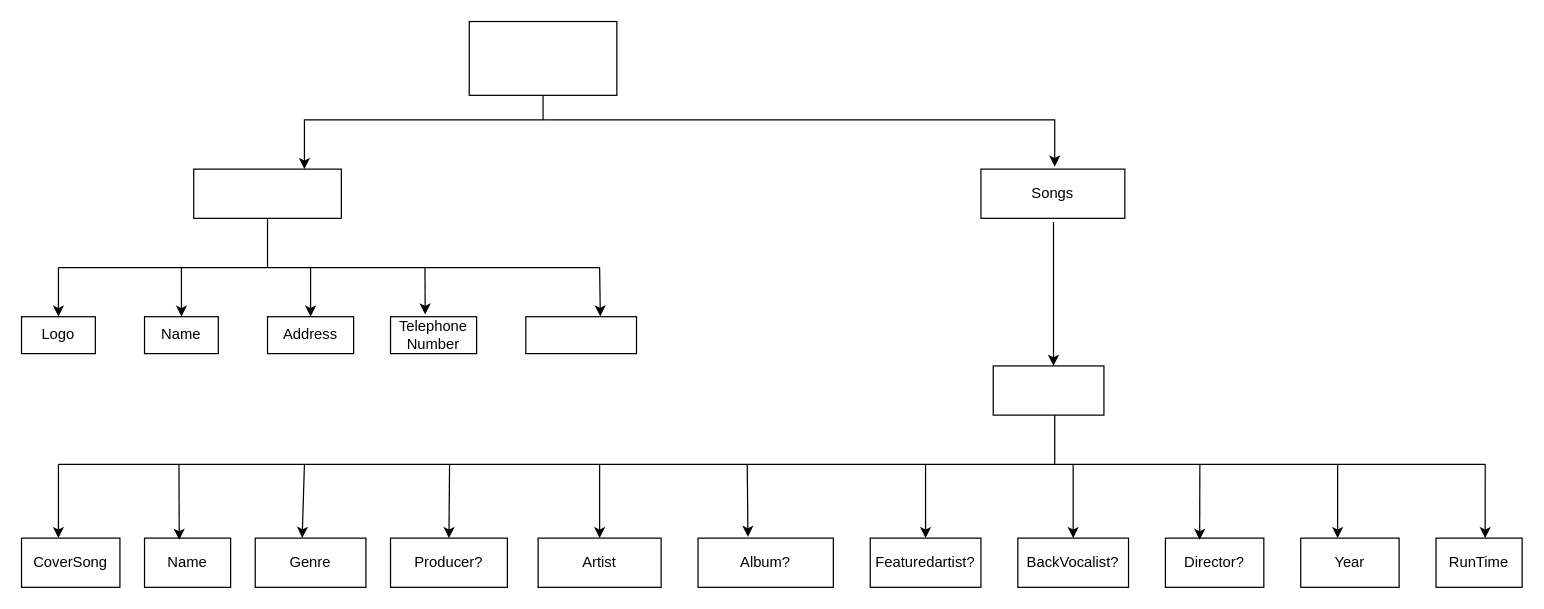
Image size: 1544x609. Some labels were removed from this diagram. Each missing label, with the box of its shape:
Ownage Music System: (468, 20, 617, 95)
Song+: (992, 365, 1104, 415)
Store: (192, 168, 341, 218)
Website: (525, 315, 637, 354)
